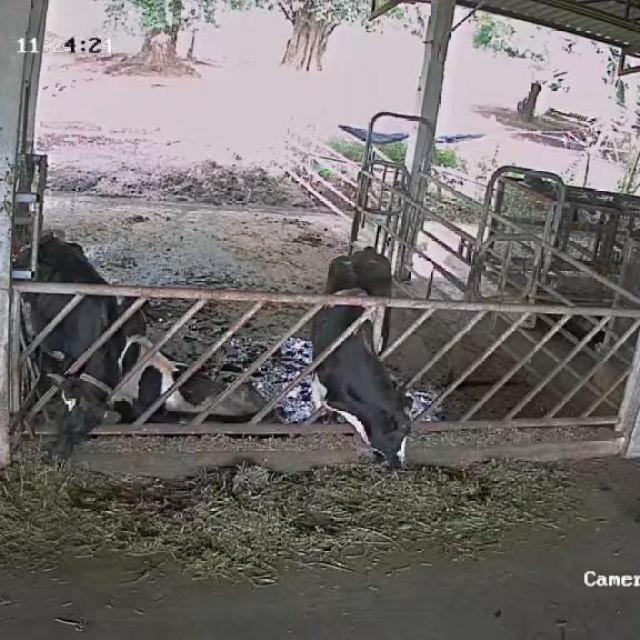feeding: (8, 220, 135, 460), (316, 247, 421, 476)
lying down: (116, 295, 294, 432)
